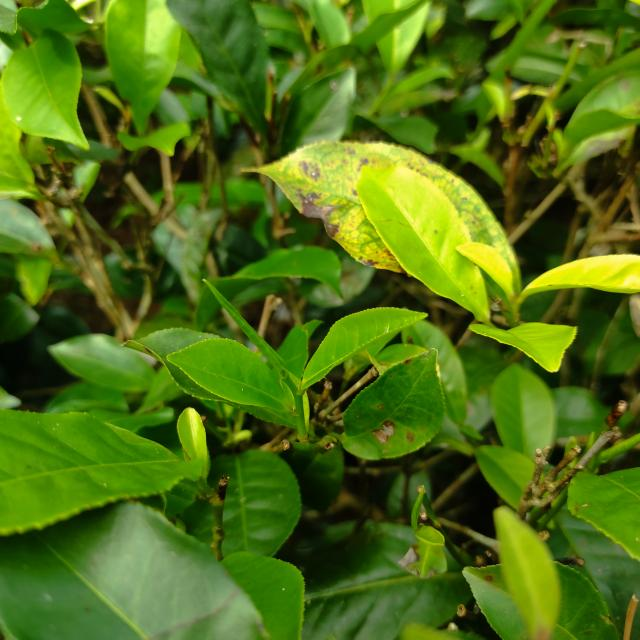unopened_leaf: (197, 269, 304, 399)
